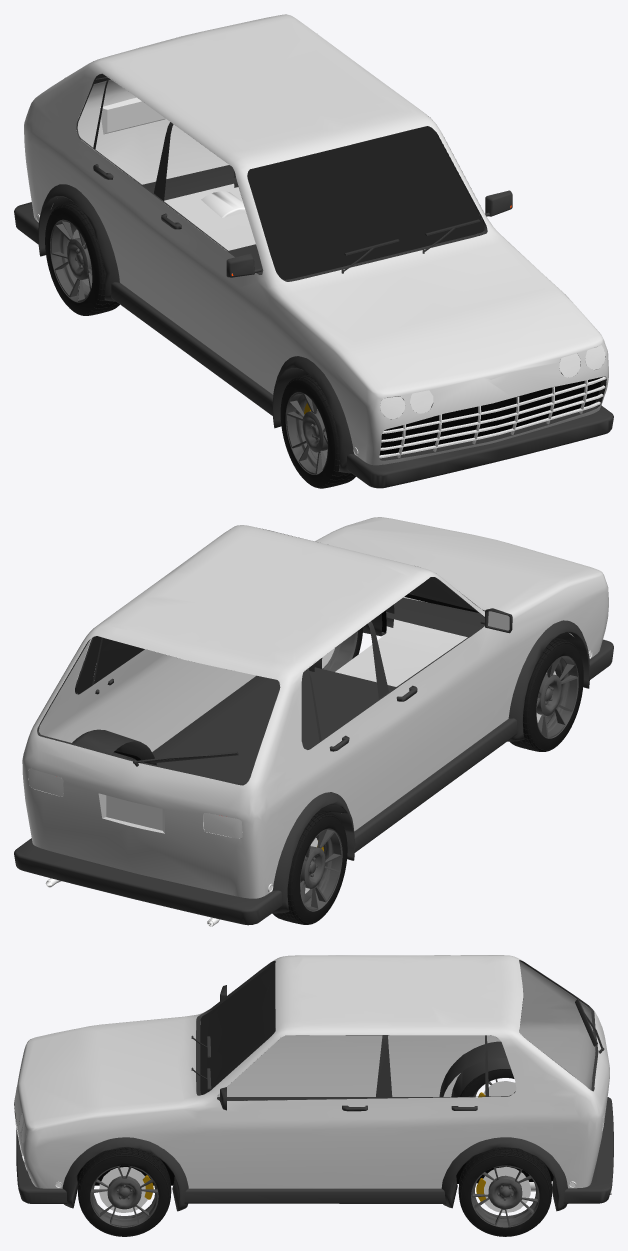
File: car.glb
3 renders of one model, top to bottom at view 1: azimuth 30°, elevation 25°; view 2: azimuth 150°, elevation 25°; view 3: azimuth 270°, elevation 25°, orthographic. The views are drawn at different scales.
Parts seen in each view (by area): view 1: Cube.008, Cube.011, Cube.010, Cylinder.006, Cube.009; view 2: Cube.008, Cube.010, Cylinder.006, Cube.011; view 3: Cube.008, Cube.010, Cylinder.006, Cube.011, Cube.009.
Part boxes in pixels (<box>): Cube.008: <box>24,14,608,465</box>; Cube.011: <box>92,74,484,279</box>; Cube.010: <box>14,61,613,488</box>; Cylinder.006: <box>45,201,355,488</box>; Cube.009: <box>379,377,601,455</box>; Cube.008: <box>22,517,608,926</box>; Cube.010: <box>14,528,613,925</box>; Cylinder.006: <box>273,627,583,924</box>; Cube.011: <box>76,577,475,694</box>; Cube.008: <box>14,955,611,1213</box>; Cube.010: <box>16,960,613,1211</box>; Cylinder.006: <box>78,1069,551,1236</box>; Cube.011: <box>200,962,275,1094</box>; Cube.009: <box>14,1104,553,1185</box>.
Size of the model in its own units: 3.21 by 2.65 by 7.26.
Materials: 9 (9 with a texture image).
